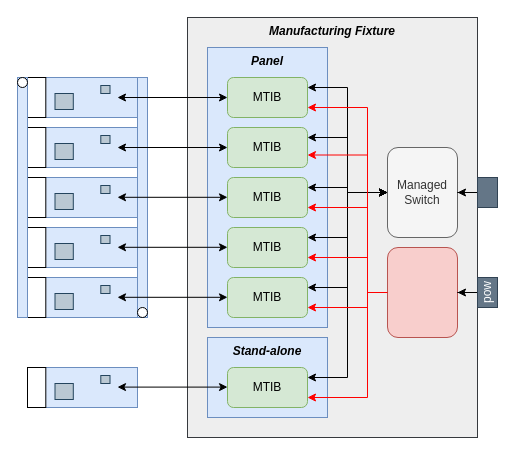
The diagram is 515 pixels wide and 455 high, and some of its shapes have lost their labels. Here are the shapes that lost their labels. From the top down, the centre of each, then its label:
At point (487, 192): "eth".
At point (422, 292): "12V Power Supply".
